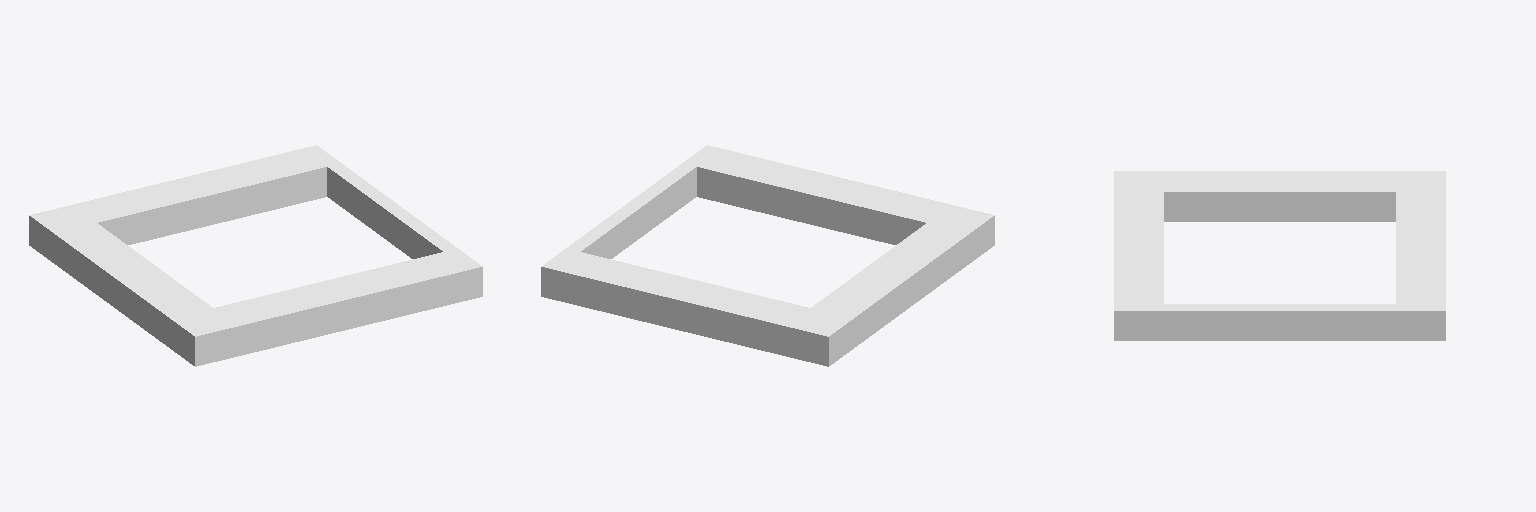
File: Middledoormonorail.obj
3 renders of one model, left to right at view 1: azimuth 30°, elevation 25°; view 2: azimuth 150°, elevation 25°; view 3: azimuth 270°, elevation 25°, orthographic.
Visible parts, largest first — view 1: object 1; view 2: object 1; view 3: object 1.
Part boxes in pixels (x1,y1,x2,y2): object 1: (29,145,482,366); object 1: (541,145,994,366); object 1: (1114,171,1445,340).
Size of the model in its own units: 2 by 0.2 by 2.